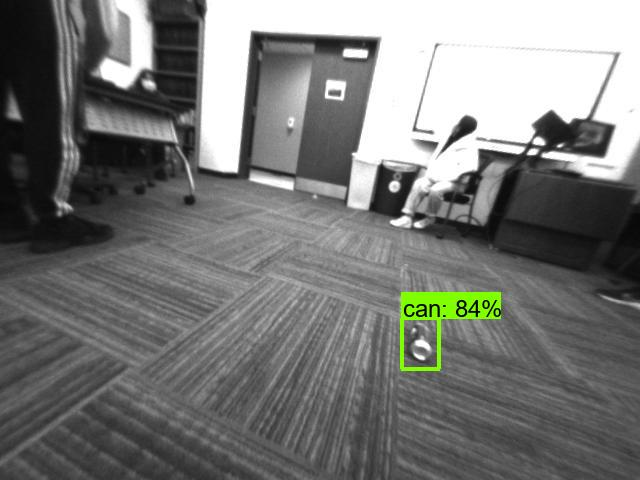can: (402, 316, 438, 367)
